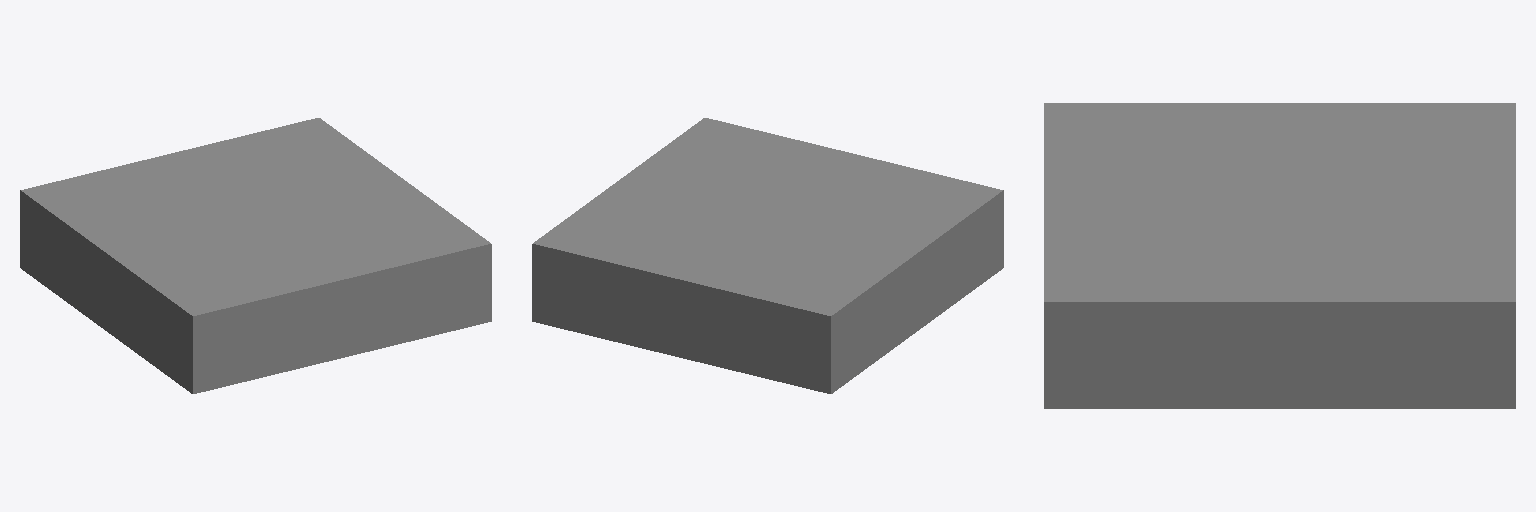
URDF robot description (solid_block):
<?xml version="1.0" encoding="utf-8"?>
<robot name="solid_block">
  <!-- Solid rectangular block: 100×100×25 cm -->

  <material name="block_gray">
    <color rgba="0.6 0.6 0.6 0.8"/>
  </material>

  <link name="base_link">
    <visual>
      <geometry>
        <box size="1.0 1.0 0.25"/>
      </geometry>
      <material name="block_gray"/>
    </visual>
    <collision>
      <geometry>
        <box size="1.0 1.0 0.25"/>
      </geometry>
    </collision>
  </link>

</robot>

--- What the picture shows (computed from the rendered views, not written in the file) ---
3 views of the same robot in one strip: view 1: azimuth 30°, elevation 25°; view 2: azimuth 150°, elevation 25°; view 3: azimuth 270°, elevation 25° (orthographic).
Model solid_block with 1 links and 0 joints (none), rooted at base_link, posed all joints at 0.
Visible links, largest first — view 1: base_link; view 2: base_link; view 3: base_link.
Boxes of the visible links, x1,y1,x2,y2 form: base_link: (20,118,491,393); base_link: (532,118,1003,393); base_link: (1044,103,1515,408).
Size in the robot's own frame: 1 by 1 by 0.25 metres.
Geometry: primitives only (box / cylinder / sphere), no mesh files.
